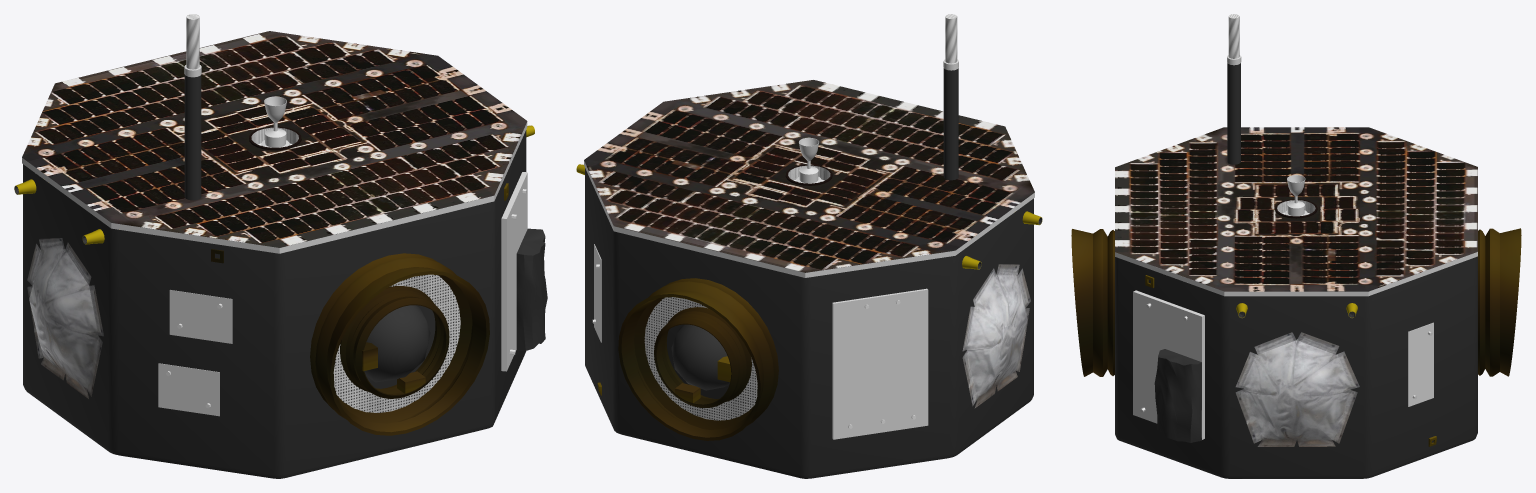
Rendered from ibex_lod0.glb.
3 views of the same model, side by side, from view 1: azimuth 30°, elevation 25°; view 2: azimuth 150°, elevation 25°; view 3: azimuth 270°, elevation 25° (orthographic). The views are drawn at different scales.
Parts seen in each view (by area): view 1: ibex_lod0; view 2: ibex_lod0; view 3: ibex_lod0.
Boxes of the visible parts, x1,y1,x2,y2 form: ibex_lod0: (14,14,547,478); ibex_lod0: (576,14,1042,478); ibex_lod0: (1071,14,1521,478).
Bounding box in the file's own units: 1.12 × 0.9773 × 1.18.
Materials: 5 (3 with a texture image).
